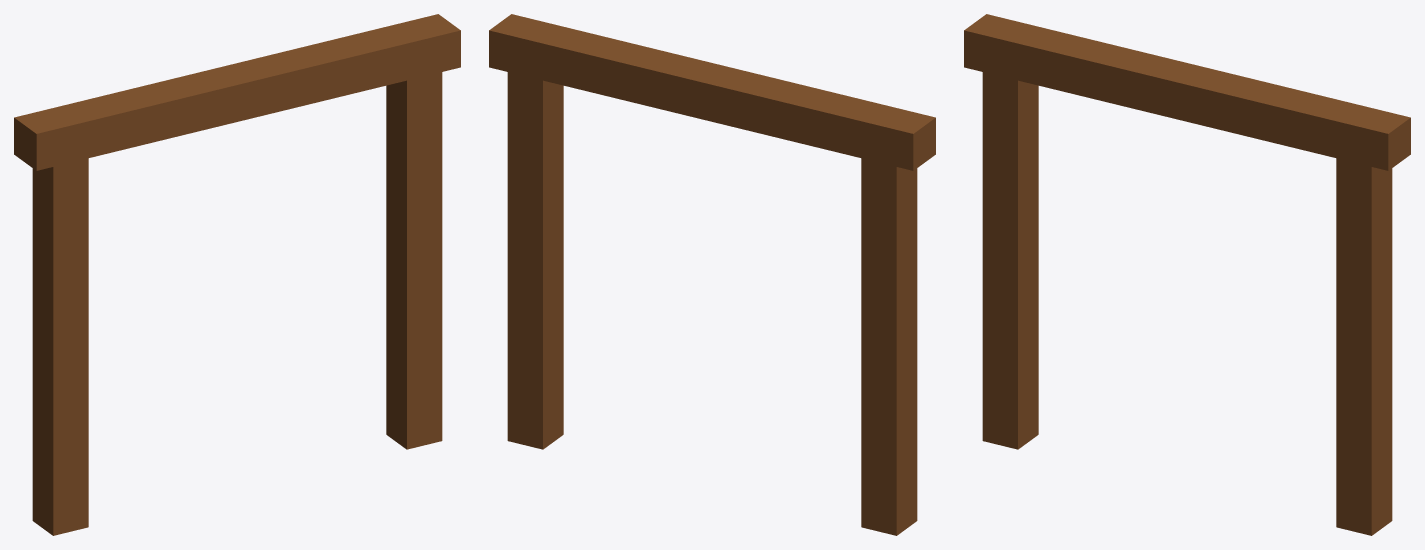
The model's file is support_beam.glb.
The picture shows the model from 3 angles, left to right: view 1: azimuth 30°, elevation 25°; view 2: azimuth 150°, elevation 25°; view 3: azimuth 330°, elevation 25°; orthographic projection.
Parts seen in each view (by area): view 1: support_beam; view 2: support_beam; view 3: support_beam.
Boxes of the visible parts, <box> form: support_beam: <box>14,14,460,535</box>; support_beam: <box>489,14,935,535</box>; support_beam: <box>964,14,1410,535</box>.
Size of the model in its own units: 2.4 by 2.2 by 0.22.
